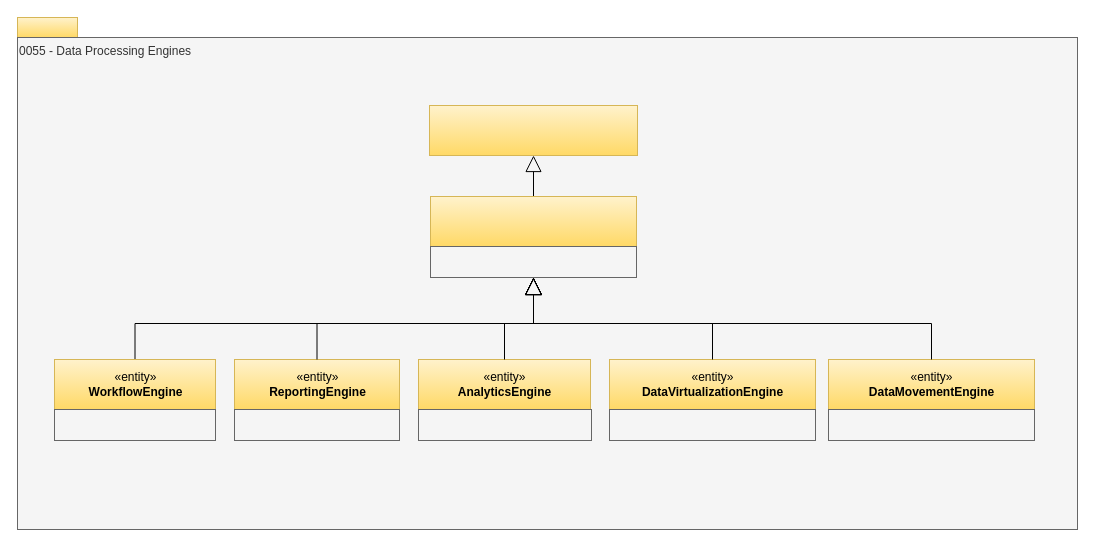
Image size: 1095x547. Some labels were removed from this diagram. The shapes that lost their labels are listed below. From the top down, each one's box as (x1, y1, x2, y2) in pixels, then its label:
(428, 104, 638, 156): «entity» SoftwareCapability
(430, 196, 636, 246): «entity» Engine
